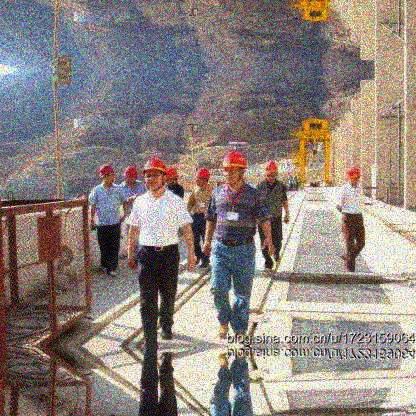helmet: (220, 151, 247, 187), (144, 161, 167, 190), (98, 164, 115, 187), (264, 160, 278, 184), (346, 170, 362, 189), (195, 169, 209, 189)
